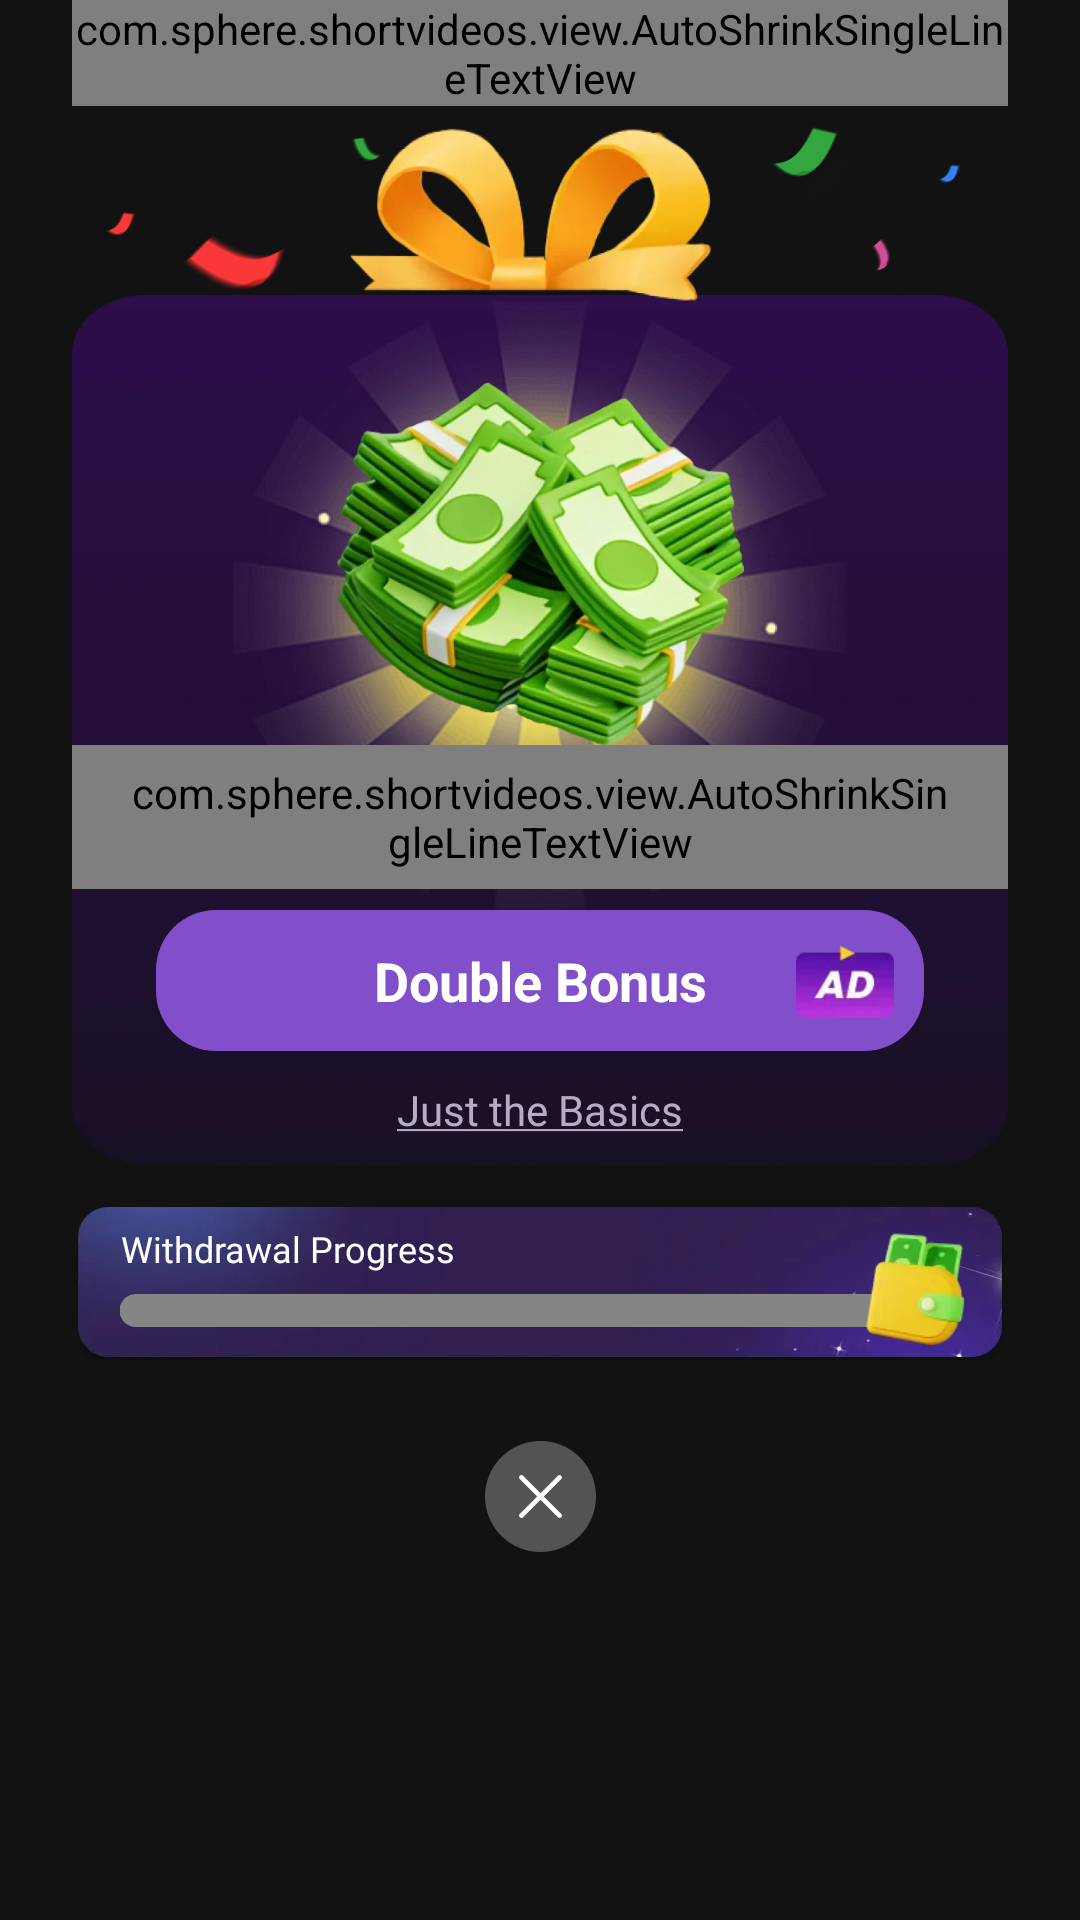

Point at icon controls on the screen. Image size 1080x1920, points as (x=x, y=y).
close: (x=540, y=1496)
